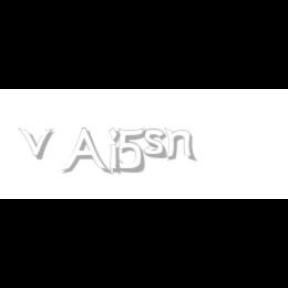5: (115, 128, 146, 174)
A: (61, 128, 109, 176)
i: (108, 128, 124, 176)
n: (164, 128, 198, 162)
s: (143, 128, 171, 160)
v: (18, 128, 58, 160)
